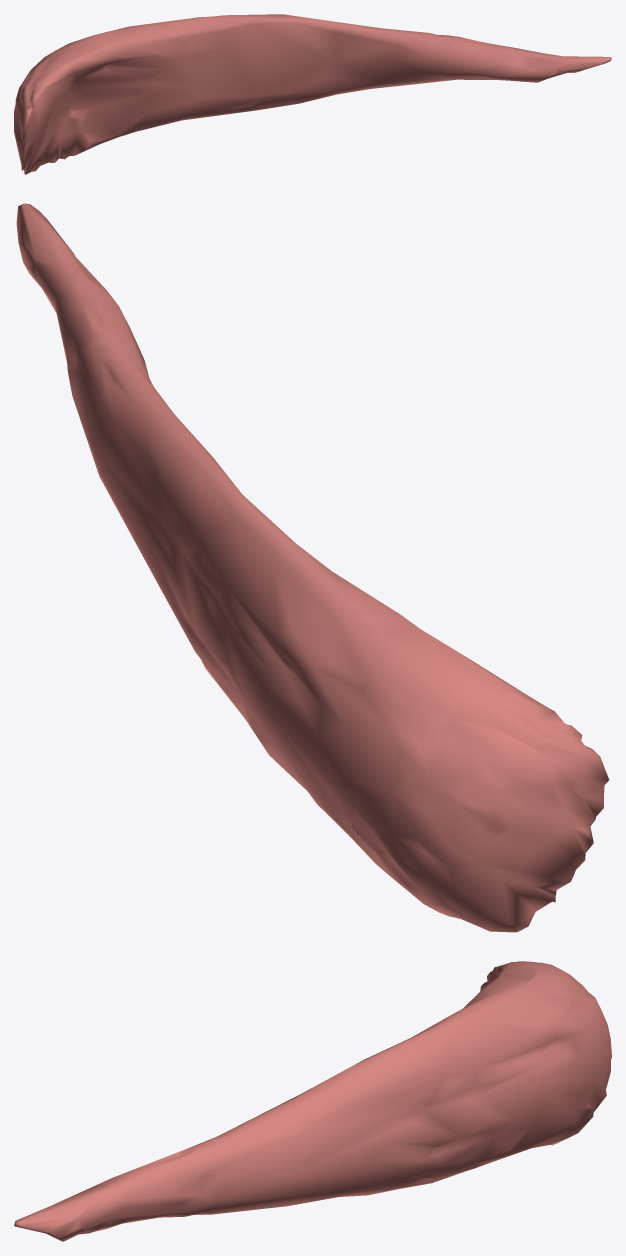
The picture shows the model from 3 angles, top to bottom: view 1: azimuth 30°, elevation 25°; view 2: azimuth 150°, elevation 25°; view 3: azimuth 270°, elevation 25°; orthographic projection. The views are drawn at different scales.
Parts seen in each view (by area): view 1: ZA_f4449addffbdf97d; view 2: ZA_f4449addffbdf97d; view 3: ZA_f4449addffbdf97d.
Boxes of the visible parts, <box> form: ZA_f4449addffbdf97d: <box>14,14,611,174</box>; ZA_f4449addffbdf97d: <box>16,203,609,932</box>; ZA_f4449addffbdf97d: <box>14,961,611,1241</box>.
Size of the model in its own units: 0.0728 by 0.0232 by 0.0543.
